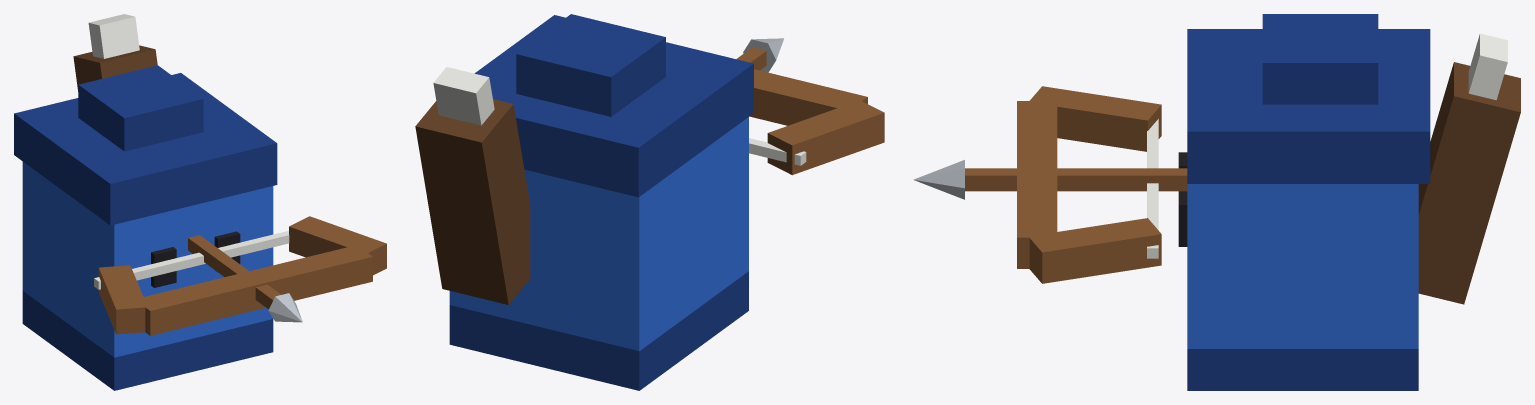
File: archer_blue.fbx
3 views of the same model, side by side, from view 1: azimuth 30°, elevation 25°; view 2: azimuth 150°, elevation 25°; view 3: azimuth 270°, elevation 25° (orthographic). The views are drawn at different scales.
Visible parts, largest first — view 1: archer_blue; view 2: archer_blue; view 3: archer_blue.
Part boxes in pixels (x1,y1,x2,y2): archer_blue: (14, 14, 386, 390); archer_blue: (415, 14, 884, 390); archer_blue: (913, 14, 1520, 390).
Size of the model in its own units: 0.681 by 0.6151 by 1.05.
